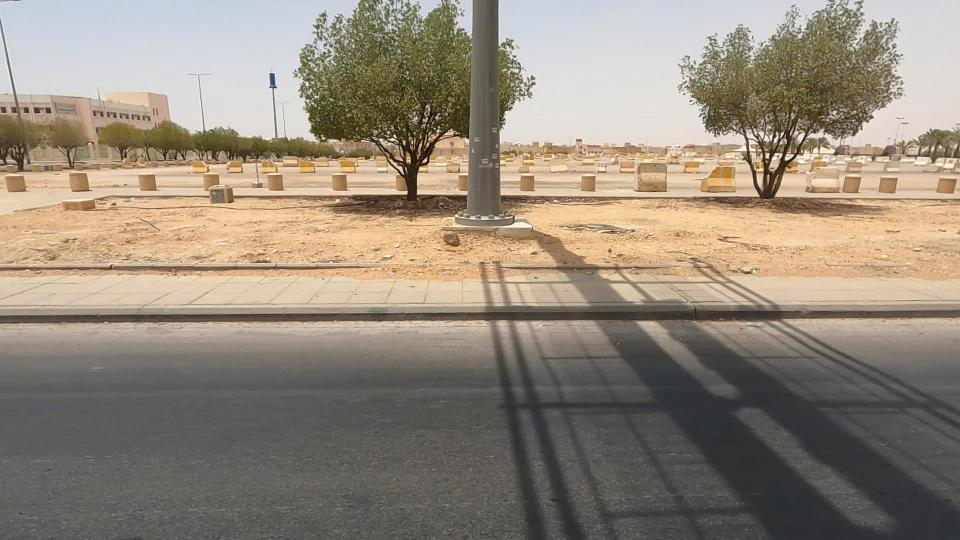CLUTTER_SIDEWALK: (394, 156, 960, 310), (47, 158, 545, 289)
